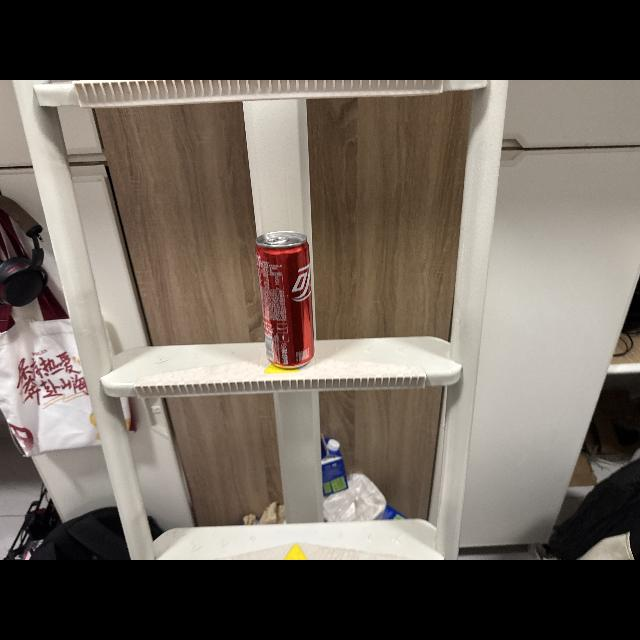Cola: (254, 227, 322, 373)
